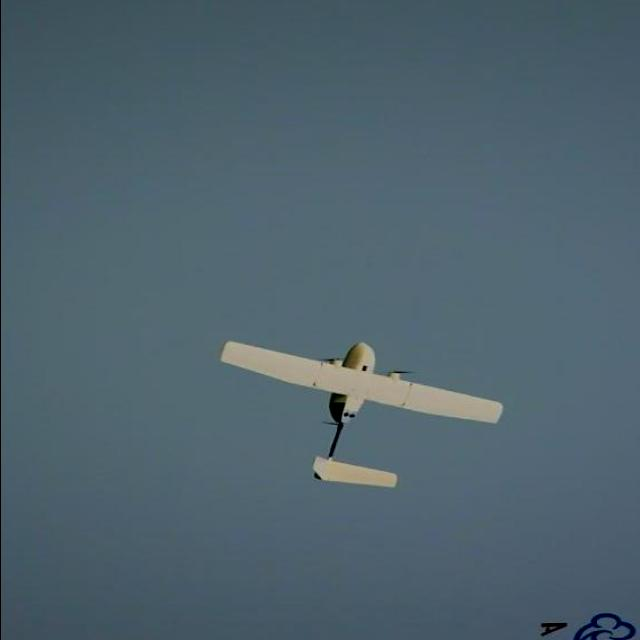plane: (218, 339, 504, 490)
